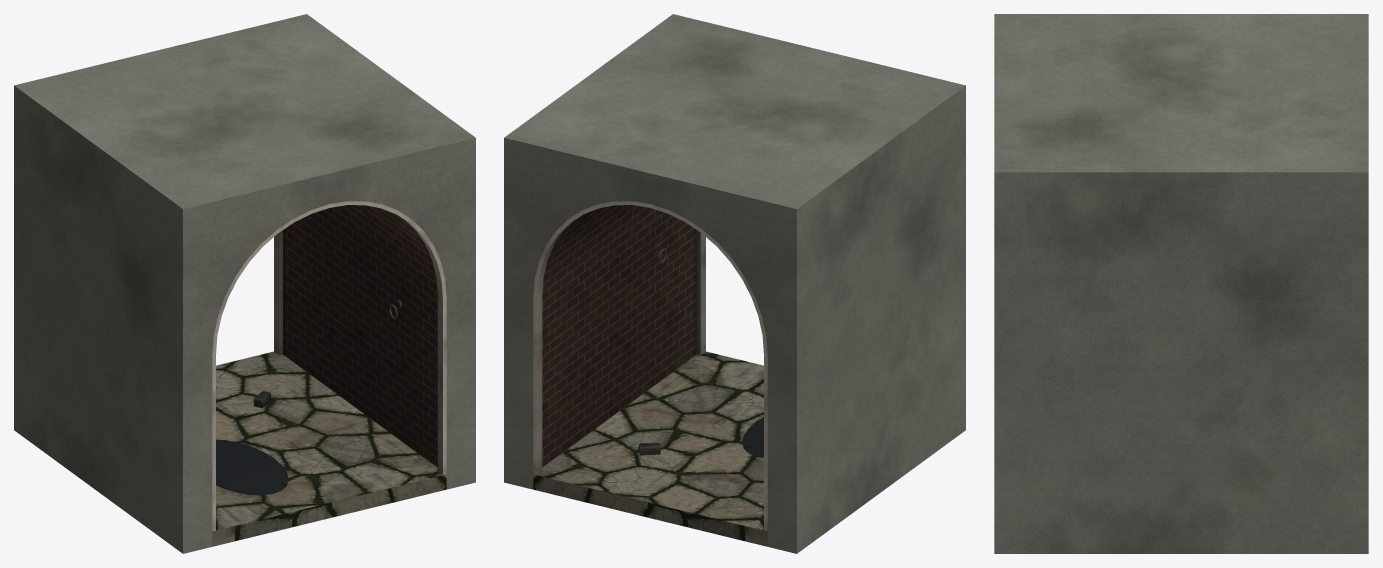
Rendered from TunnelStraight.fbx.
The picture shows the model from 3 angles, left to right: view 1: azimuth 30°, elevation 25°; view 2: azimuth 150°, elevation 25°; view 3: azimuth 270°, elevation 25°; orthographic projection. The views are drawn at different scales.
Parts seen in each view (by area): view 1: TunnelStraight_Wall, TunnelStraight_Main, TunnelStraight_Floor; view 2: TunnelStraight_Wall, TunnelStraight_Main, TunnelStraight_Floor; view 3: TunnelStraight_Wall.
Boxes of the visible parts, left/top/right/bottom form: TunnelStraight_Wall: left=14, top=14, right=475, bottom=553; TunnelStraight_Main: left=212, top=201, right=446, bottom=531; TunnelStraight_Floor: left=212, top=351, right=446, bottom=546; TunnelStraight_Wall: left=504, top=14, right=965, bottom=553; TunnelStraight_Main: left=533, top=201, right=767, bottom=531; TunnelStraight_Floor: left=533, top=351, right=767, bottom=546; TunnelStraight_Wall: left=994, top=14, right=1368, bottom=553.
Size of the model in its own units: 800 by 900 by 800.
